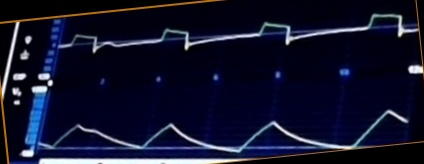Premature_cycling Flow: (67, 11, 417, 61)
Premature_cycling Volume: (46, 99, 409, 153)
